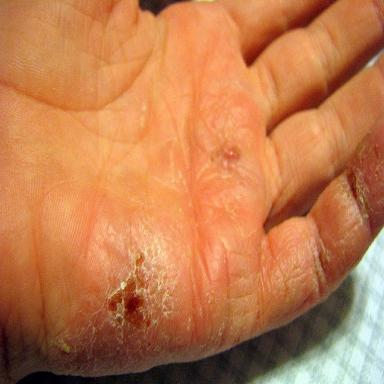eczema: (55, 238, 178, 373)
